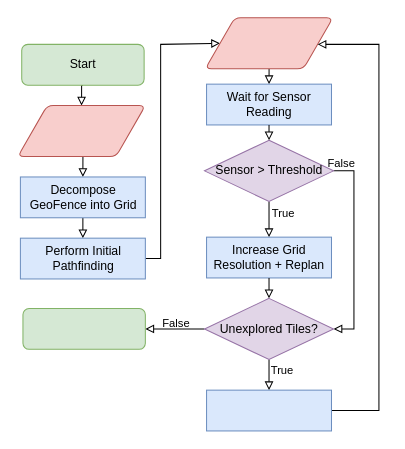
Some shapes in this 405 by 449 pixel diagram are drawn without their labels. Each missing label, with the centre of its shape:
"Determine Next Coordinate" belongs at point (269, 410).
"End" belongs at point (83, 328).
"Input GeoFence" belongs at point (81, 131).
"Output Next Coordinate" belongs at point (268, 43).
